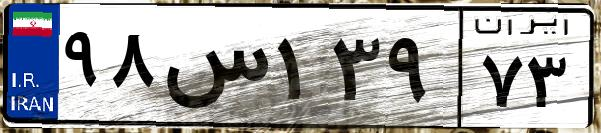1: (270, 28, 330, 110)
3: (330, 28, 385, 110), (525, 38, 570, 115)
7: (475, 38, 525, 113)
8: (110, 28, 158, 98)
9: (385, 28, 445, 110), (57, 26, 110, 100)
س: (158, 20, 270, 120)
